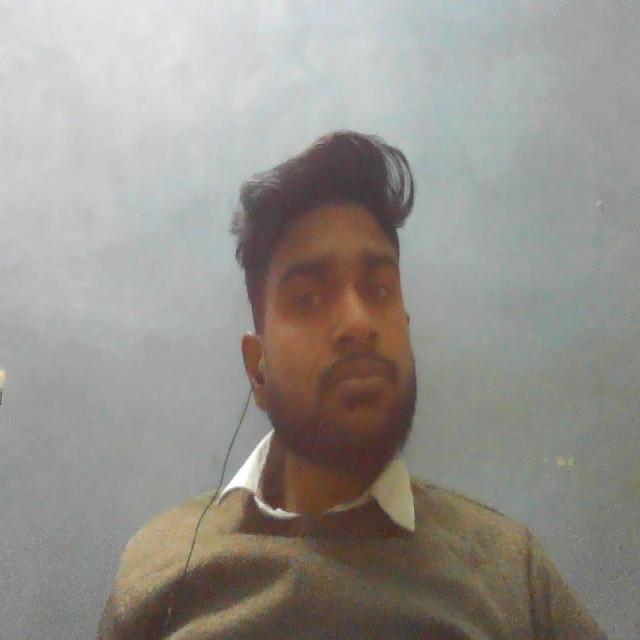real: (240, 114, 430, 474)
